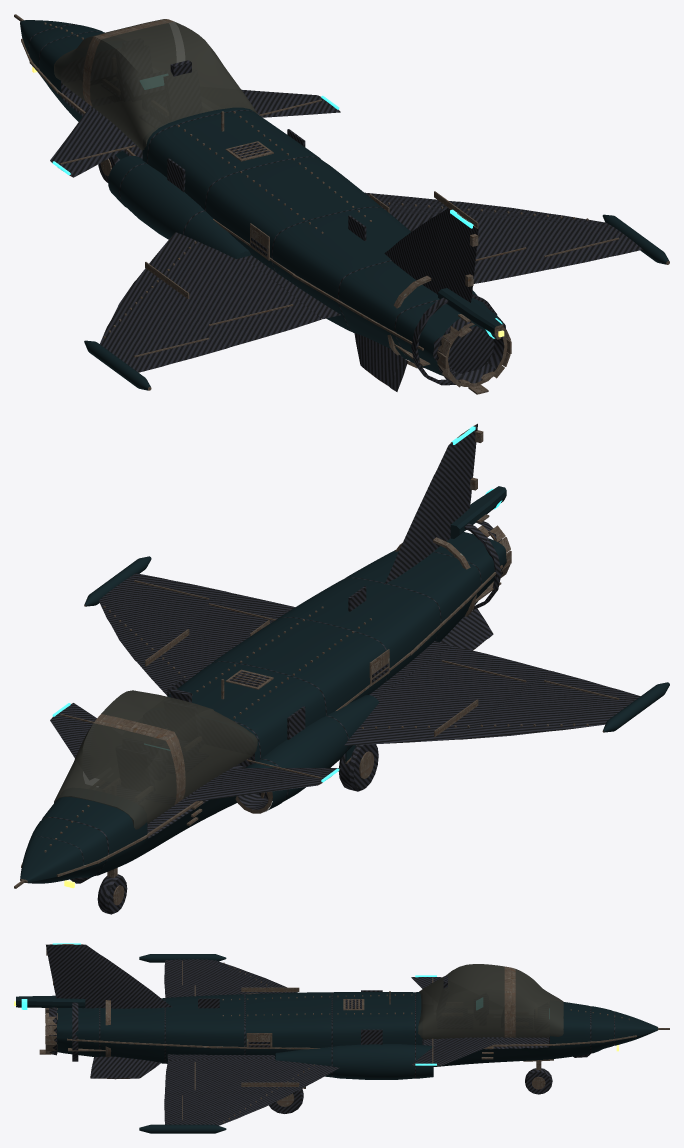
The model's file is basement_v2.glb.
3 views of the same model, one above another, from view 1: azimuth 30°, elevation 25°; view 2: azimuth 150°, elevation 25°; view 3: azimuth 270°, elevation 25° (orthographic). The views are drawn at different scales.
Visible parts, largest first — view 1: basement_core, basement_wing_l, basement_wing_r, basement_canard_l, basement_canard_r; view 2: basement_core, basement_wing_l, basement_wing_r, basement_canard_l, basement_gear_down, basement_canard_r; view 3: basement_core, basement_wing_r, basement_wing_l, basement_canard_r, basement_gear_down.
Boxes of the visible parts, x1,y1,x2,y2 form: basement_core: (14,14,511,394); basement_wing_l: (84,232,321,390); basement_wing_r: (364,191,669,283); basement_canard_l: (50,108,135,177); basement_canard_r: (241,89,340,117); basement_core: (14,423,511,888); basement_wing_l: (344,646,669,745); basement_wing_r: (84,556,294,695); basement_canard_l: (182,759,340,802); basement_gear_down: (97,744,378,914); basement_canard_r: (50,703,96,758); basement_core: (14,943,669,1079); basement_wing_r: (139,1058,339,1133); basement_wing_l: (139,954,299,997); basement_canard_r: (411,1037,506,1065); basement_gear_down: (269,1059,553,1113).
Bounding box in the file's own units: 5.68 × 2.28 × 9.04.
Materials: 10 (4 with a texture image).
